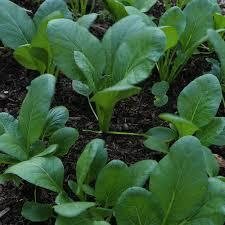Healthy-Pechay: (104, 137, 222, 224), (1, 74, 66, 164), (2, 1, 78, 74), (160, 0, 222, 82), (94, 160, 135, 207), (115, 93, 152, 124), (119, 61, 156, 90), (143, 126, 175, 155), (196, 116, 225, 148), (108, 136, 141, 159), (21, 201, 52, 222), (159, 25, 179, 52), (0, 112, 20, 138), (0, 50, 16, 74), (99, 110, 111, 133), (123, 5, 145, 17), (78, 0, 88, 15), (0, 206, 11, 219), (22, 7, 33, 14), (6, 96, 17, 103), (122, 123, 129, 131), (3, 90, 9, 95), (222, 8, 225, 16)
